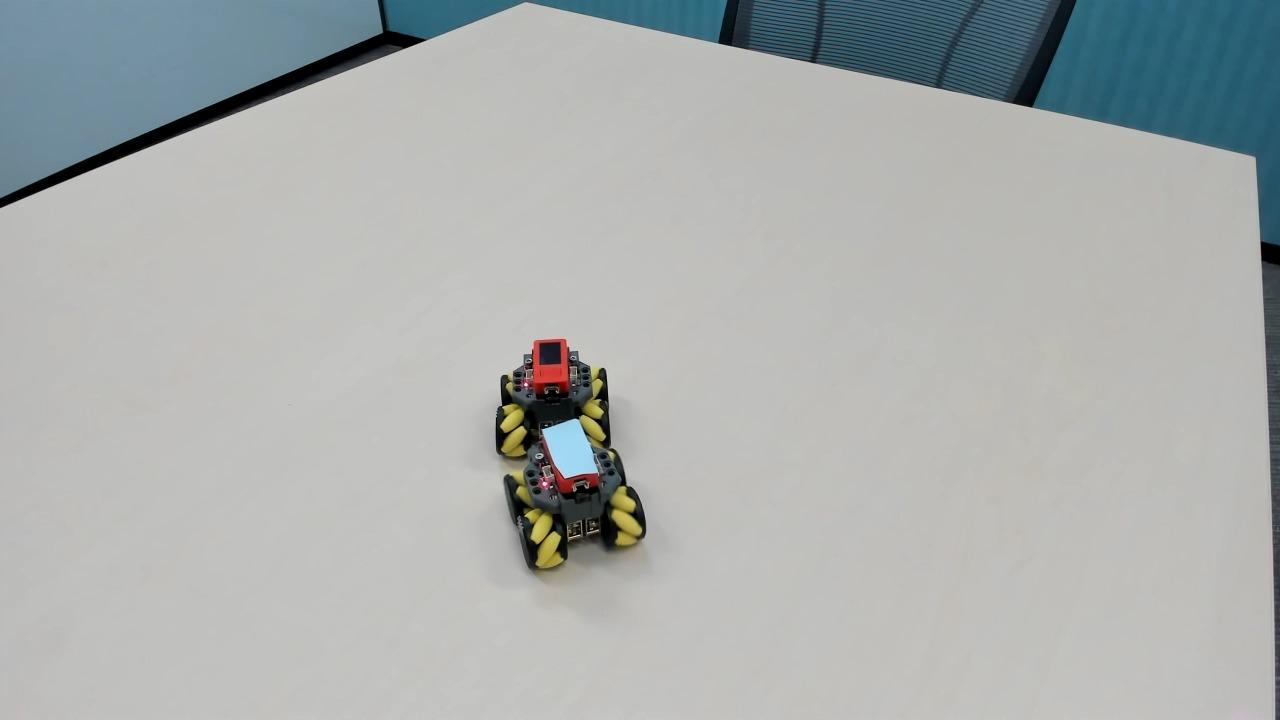B-Robot: (486, 420, 655, 586)
R-Robot: (481, 335, 623, 417)
